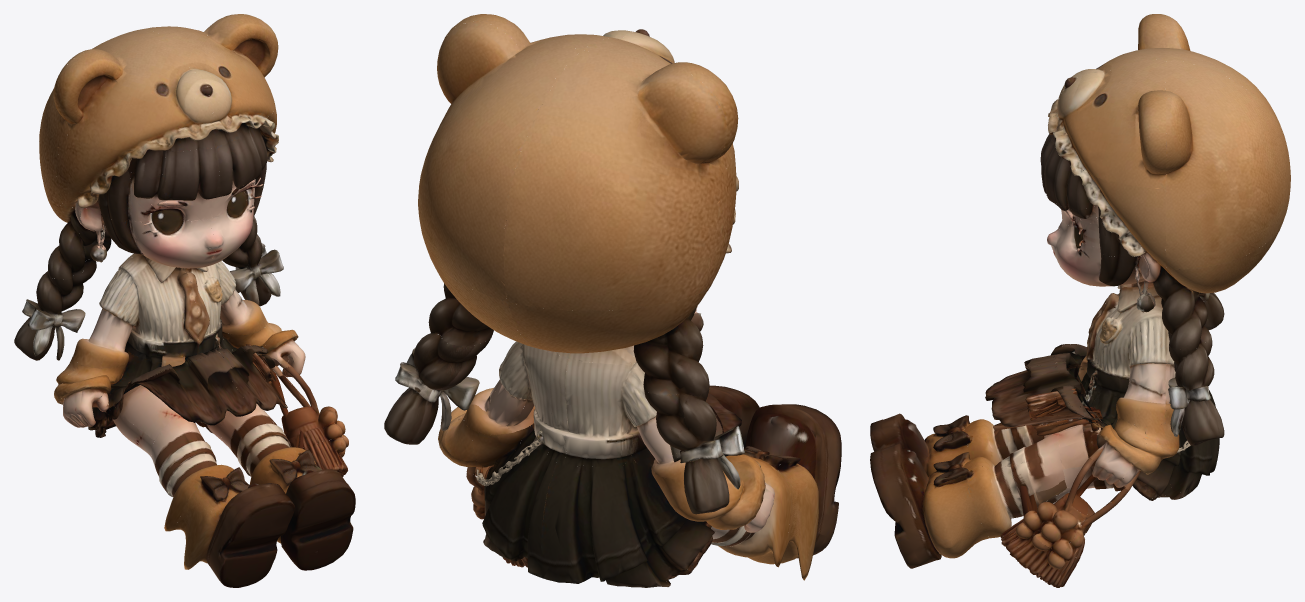
File: studio-visitor-bear-v3.glb
The picture shows the model from 3 angles, left to right: view 1: azimuth 30°, elevation 25°; view 2: azimuth 150°, elevation 25°; view 3: azimuth 270°, elevation 25°; orthographic projection. The views are drawn at different scales.
Visible parts, largest first — view 1: Seated bear; view 2: Seated bear; view 3: Seated bear.
Boxes of the visible parts, x1,y1,x2,y2 form: Seated bear: (14, 14, 355, 587); Seated bear: (384, 14, 841, 587); Seated bear: (870, 14, 1290, 587).
Bounding box in the file's own units: 0.566 × 0.9667 × 0.7525.
5 materials, 5 textured.
